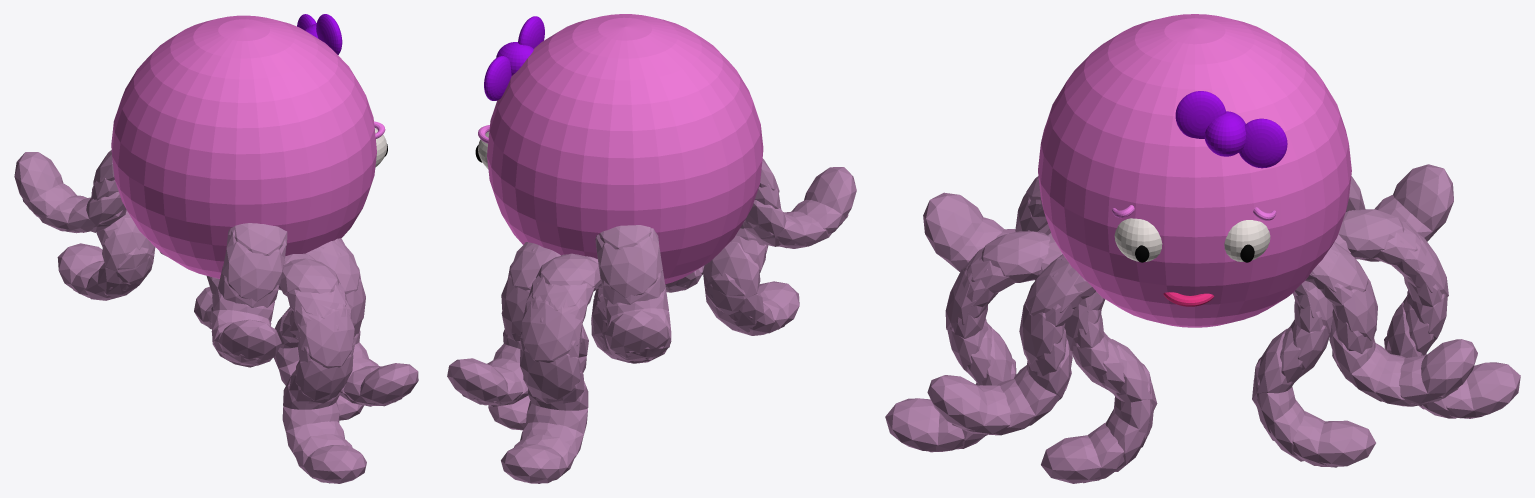
File: polvinha.glb
The picture shows the model from 3 angles, left to right: view 1: azimuth 30°, elevation 25°; view 2: azimuth 150°, elevation 25°; view 3: azimuth 270°, elevation 25°; orthographic projection. The views are drawn at different scales.
Visible parts, largest first — view 1: corpo, tentaculo.esq, tentaculo.dir, laco.esq; view 2: corpo, tentaculo.dir, tentaculo.esq, laco.dir, laco.esq, laco.central; view 3: corpo, tentaculo.esq, tentaculo.dir, olhos, laco.dir, laco.esq, laco.central.
Part boxes in pixels (<box>): corpo: <box>111,15,376,278</box>; tentaculo.esq: <box>211,223,418,483</box>; tentaculo.dir: <box>14,150,219,329</box>; laco.esq: <box>316,14,342,54</box>; corpo: <box>487,14,763,284</box>; tentaculo.dir: <box>447,225,671,483</box>; tentaculo.esq: <box>591,158,856,362</box>; laco.dir: <box>484,56,511,100</box>; laco.esq: <box>518,16,544,48</box>; laco.central: <box>496,42,533,75</box>; corpo: <box>1038,14,1351,327</box>; tentaculo.esq: <box>885,176,1157,483</box>; tentaculo.dir: <box>1252,164,1520,467</box>; olhos: <box>1114,218,1270,261</box>; laco.dir: <box>1239,118,1287,168</box>; laco.esq: <box>1175,91,1226,138</box>; laco.central: <box>1204,111,1246,156</box>.
Bounding box in the file's own units: 2.2 × 3.03 × 4.05.
